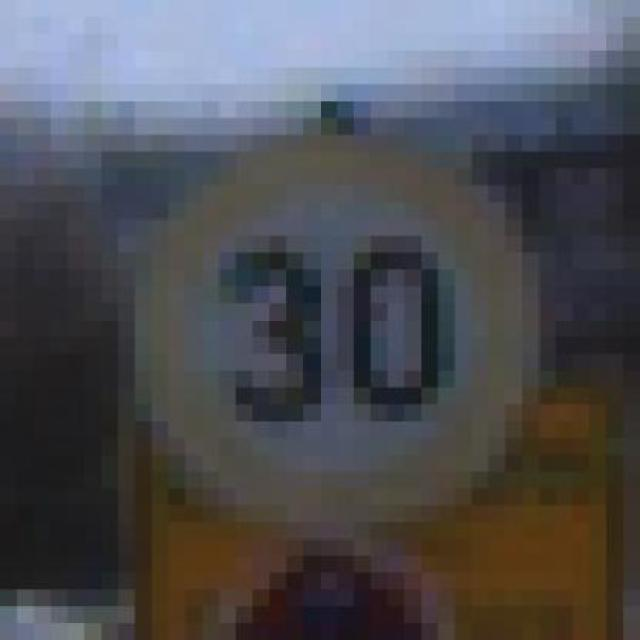Speed Limit 30 KMPh: (67, 152, 590, 573)
